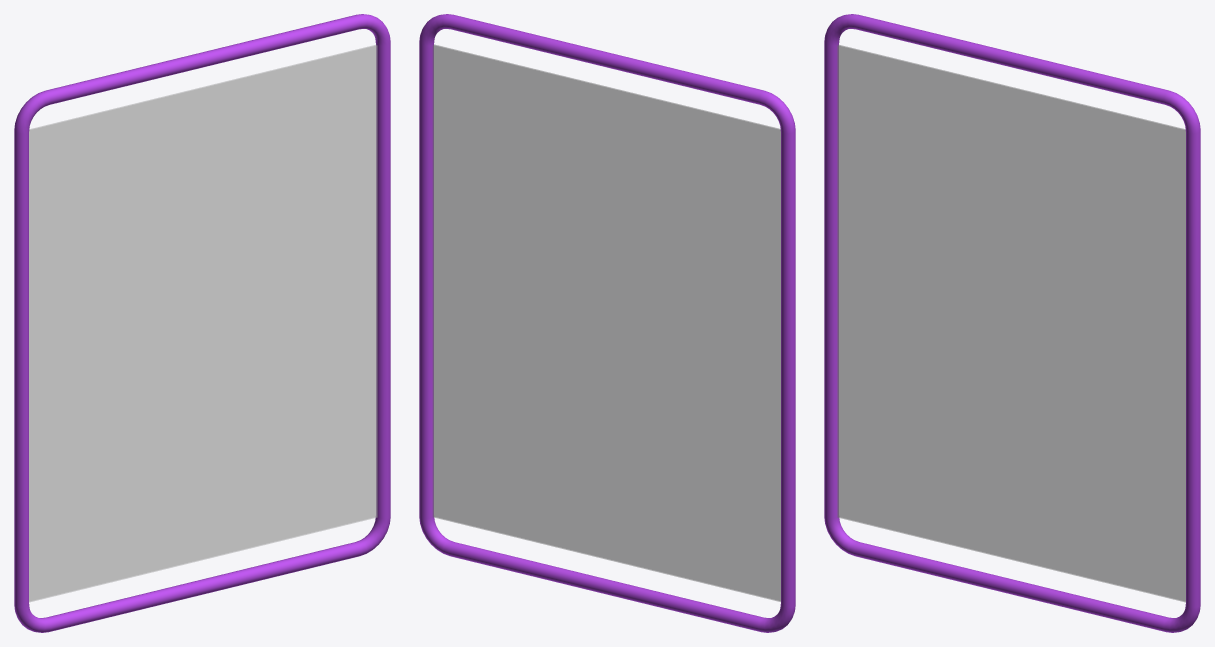
File: Rallings_C_4x3m.FBX
3 views of the same model, side by side, from view 1: azimuth 30°, elevation 25°; view 2: azimuth 150°, elevation 25°; view 3: azimuth 330°, elevation 25° (orthographic).
Visible parts, largest first — view 1: Rallings_C_4x3m; view 2: Rallings_C_4x3m; view 3: Rallings_C_4x3m.
Part boxes in pixels (left/top/right/bottom): Rallings_C_4x3m: left=14, top=14, right=390, bottom=632; Rallings_C_4x3m: left=419, top=14, right=795, bottom=632; Rallings_C_4x3m: left=824, top=14, right=1200, bottom=632.
Bounding box in the file's own units: 290 × 400 × 10.
